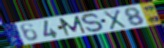4: (42, 19, 59, 39)
6: (19, 22, 39, 42)
8: (124, 7, 146, 27)
M: (58, 15, 88, 37)
S: (80, 12, 105, 34)
X: (102, 9, 128, 31)
